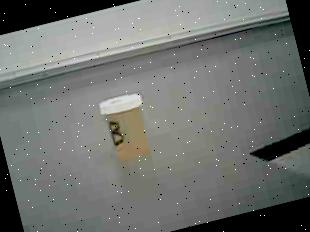Bottle B: (90, 84, 166, 174)
